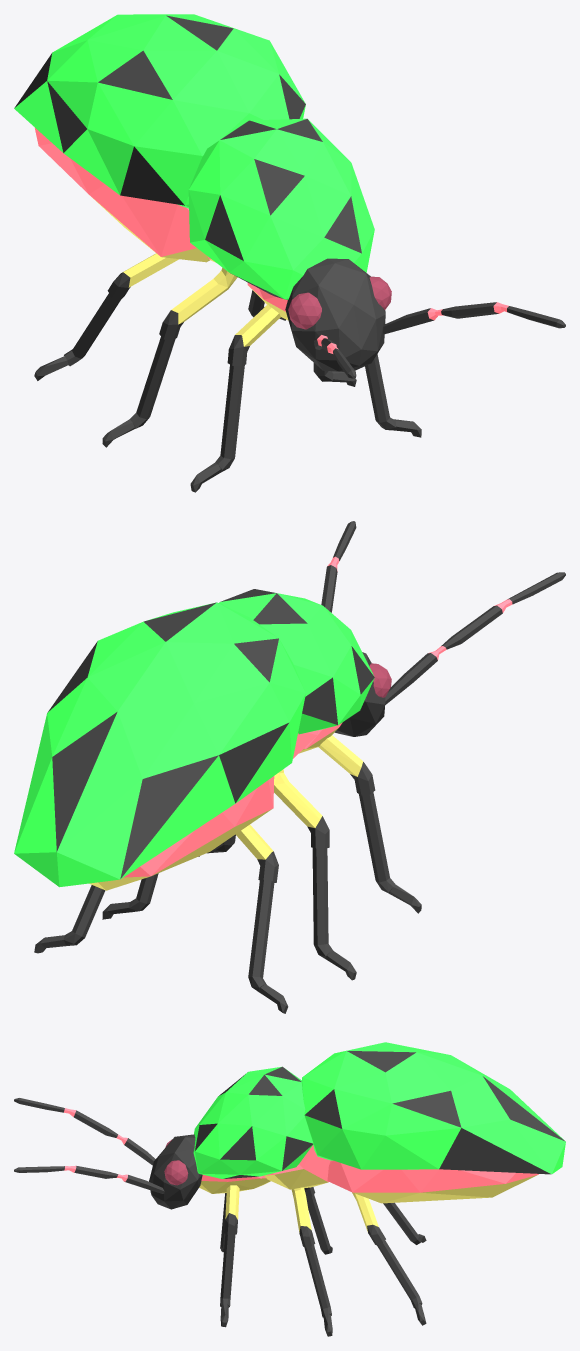
The model's file is bug.fbx.
The picture shows the model from 3 angles, top to bottom: view 1: azimuth 30°, elevation 25°; view 2: azimuth 150°, elevation 25°; view 3: azimuth 270°, elevation 25°; orthographic projection. The views are drawn at different scales.
Parts seen in each view (by area): view 1: Icosphere.003; view 2: Icosphere.003; view 3: Icosphere.003.
Boxes of the visible parts, x1,y1,x2,y2 form: Icosphere.003: (14,14,565,492); Icosphere.003: (14,521,565,1013); Icosphere.003: (14,1042,565,1336).
Size of the model in its own units: 270 by 365 by 748.
